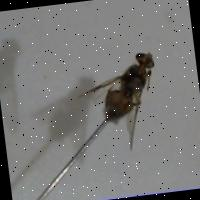Oriental-fruit-fly: (70, 47, 170, 159)
